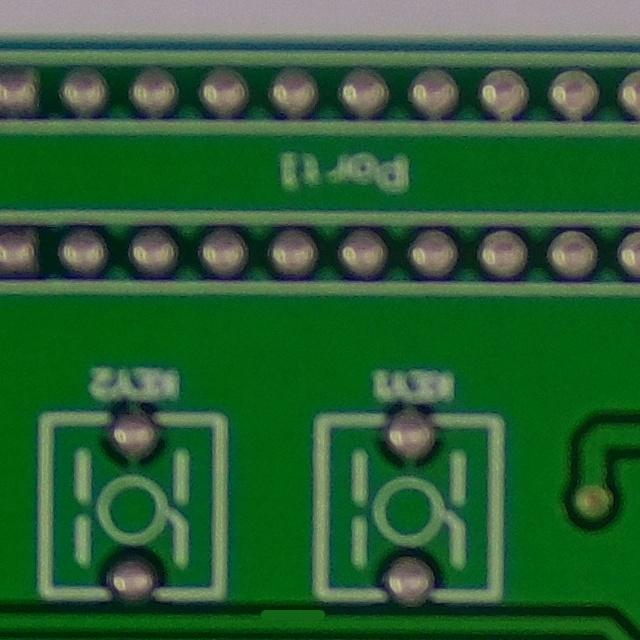spur: (248, 595, 335, 634)
